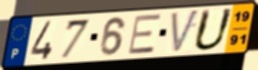4: (30, 20, 55, 61)
6: (98, 15, 128, 57)
7: (60, 19, 92, 60)
E: (127, 13, 162, 57)
U: (191, 7, 236, 52)
V: (169, 8, 201, 55)
